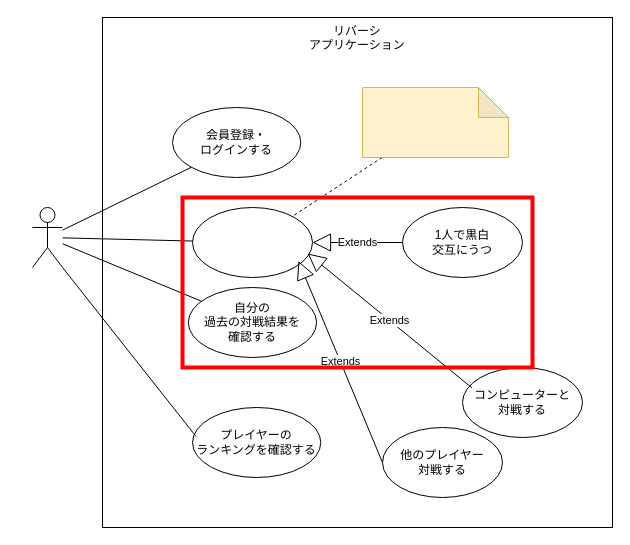
Some shapes in this 630 by 545 pixel diagram are drawn without their labels. The centre of each missing label's shape, as x and y in pixels:
"プレイヤー" goes at point 47,237.
"・対戦を開始する ・盤面を見る ・石を打つ ・勝敗を確認する" goes at point 435,122.
"対戦する" goes at point 252,242.
